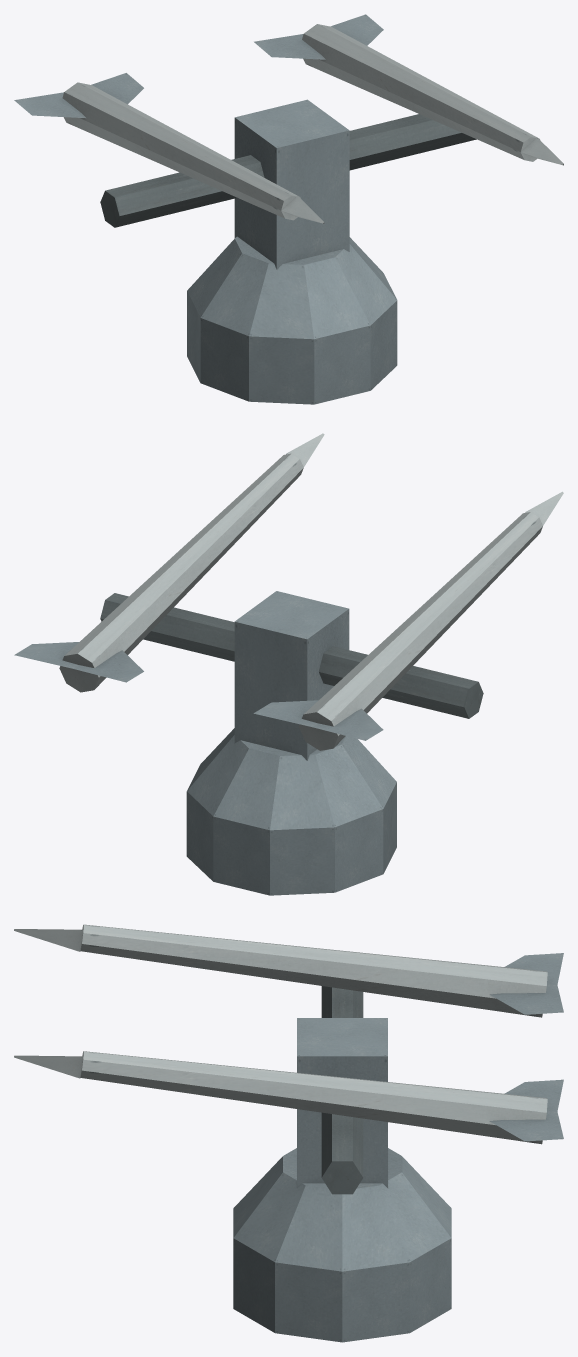
File: cruiser_sam_source.glb
3 renders of one model, top to bottom at view 1: azimuth 30°, elevation 25°; view 2: azimuth 150°, elevation 25°; view 3: azimuth 270°, elevation 25°, orthographic. The views are drawn at different scales.
Visible parts, largest first — view 1: MESH_SLAVA_TEMPLATE_sam.003; view 2: MESH_SLAVA_TEMPLATE_sam.003; view 3: MESH_SLAVA_TEMPLATE_sam.003.
Boxes of the visible parts, x1,y1,x2,y2 form: MESH_SLAVA_TEMPLATE_sam.003: (14, 14, 563, 404); MESH_SLAVA_TEMPLATE_sam.003: (14, 433, 563, 895); MESH_SLAVA_TEMPLATE_sam.003: (14, 924, 563, 1342).
Size of the model in its own units: 3.5 by 2.59 by 4.22.
Materials: 1 (1 with a texture image).
